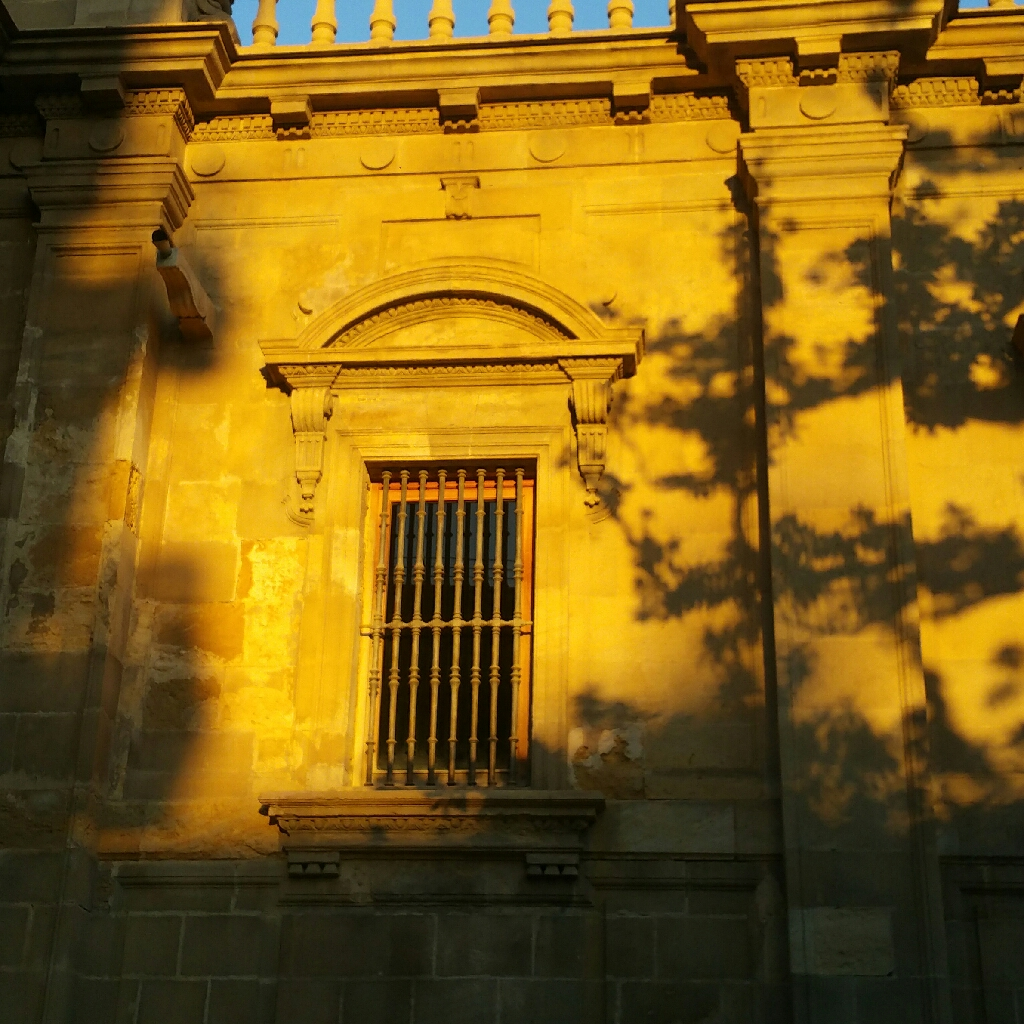fronton-curvo: (295, 251, 615, 373)
vano-adintelado: (322, 438, 564, 800)
